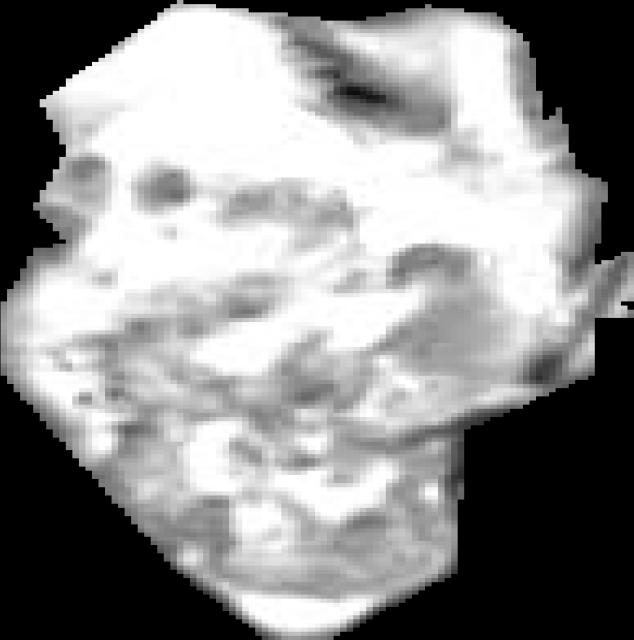tumor_less_chance: (1, 0, 634, 640)
